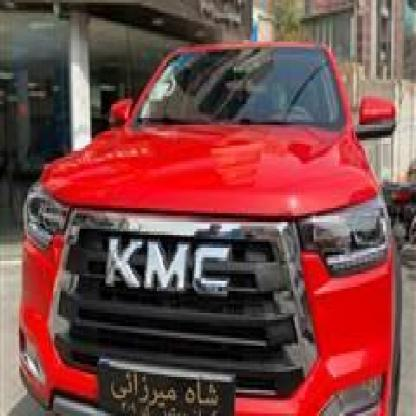Car: (18, 41, 400, 416)
